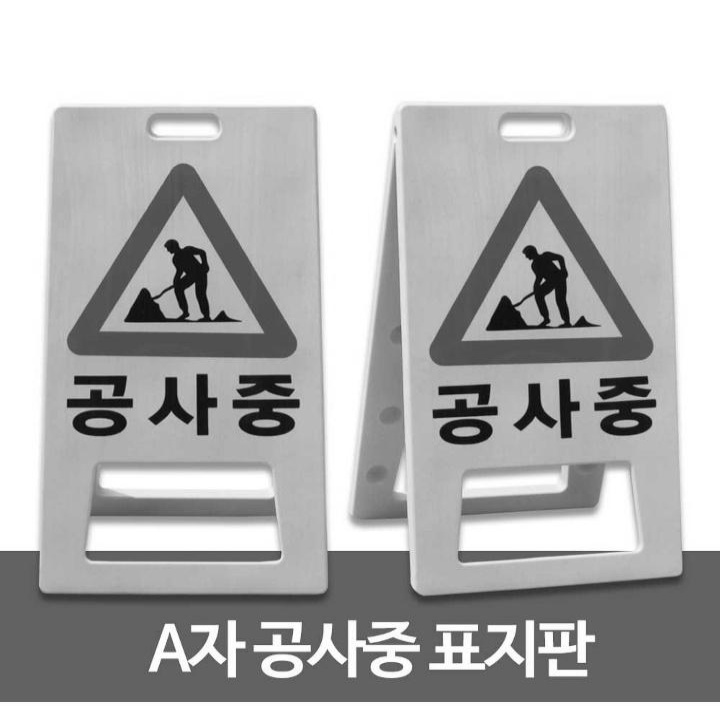const: (455, 209, 646, 362), (107, 228, 262, 325)
